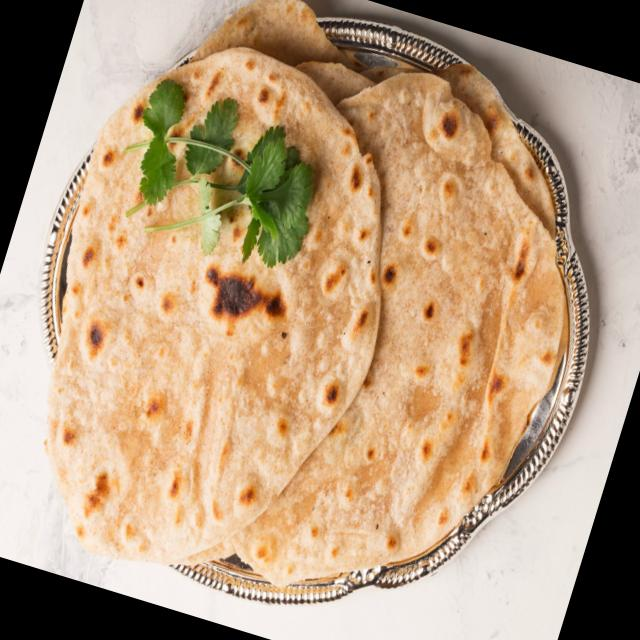roti: (38, 0, 567, 590)
